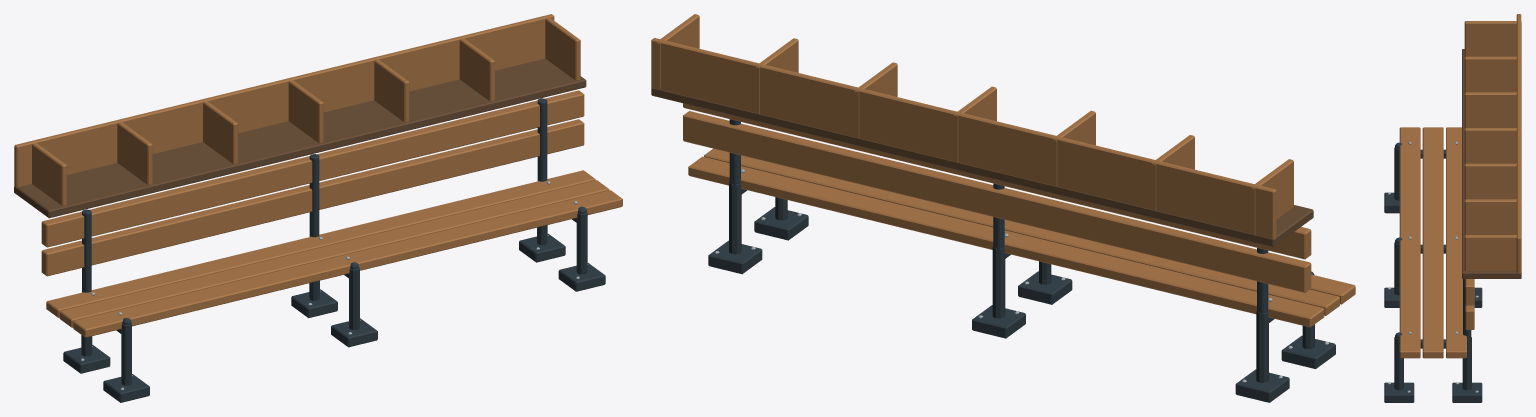
File: b09_dugout_equipment_bench.glb
3 views of the same model, side by side, from view 1: azimuth 30°, elevation 25°; view 2: azimuth 150°, elevation 25°; view 3: azimuth 270°, elevation 25° (orthographic). The views are drawn at different scales.
Visible parts, largest first — view 1: b09_dugout_equipment_bench; view 2: b09_dugout_equipment_bench; view 3: b09_dugout_equipment_bench.
Boxes of the visible parts, bbox=[...] form: b09_dugout_equipment_bench: bbox=[14, 14, 622, 402]; b09_dugout_equipment_bench: bbox=[651, 14, 1355, 402]; b09_dugout_equipment_bench: bbox=[1384, 14, 1521, 402].
Size of the model in its own units: 3.9 by 1.43 by 1.01.
